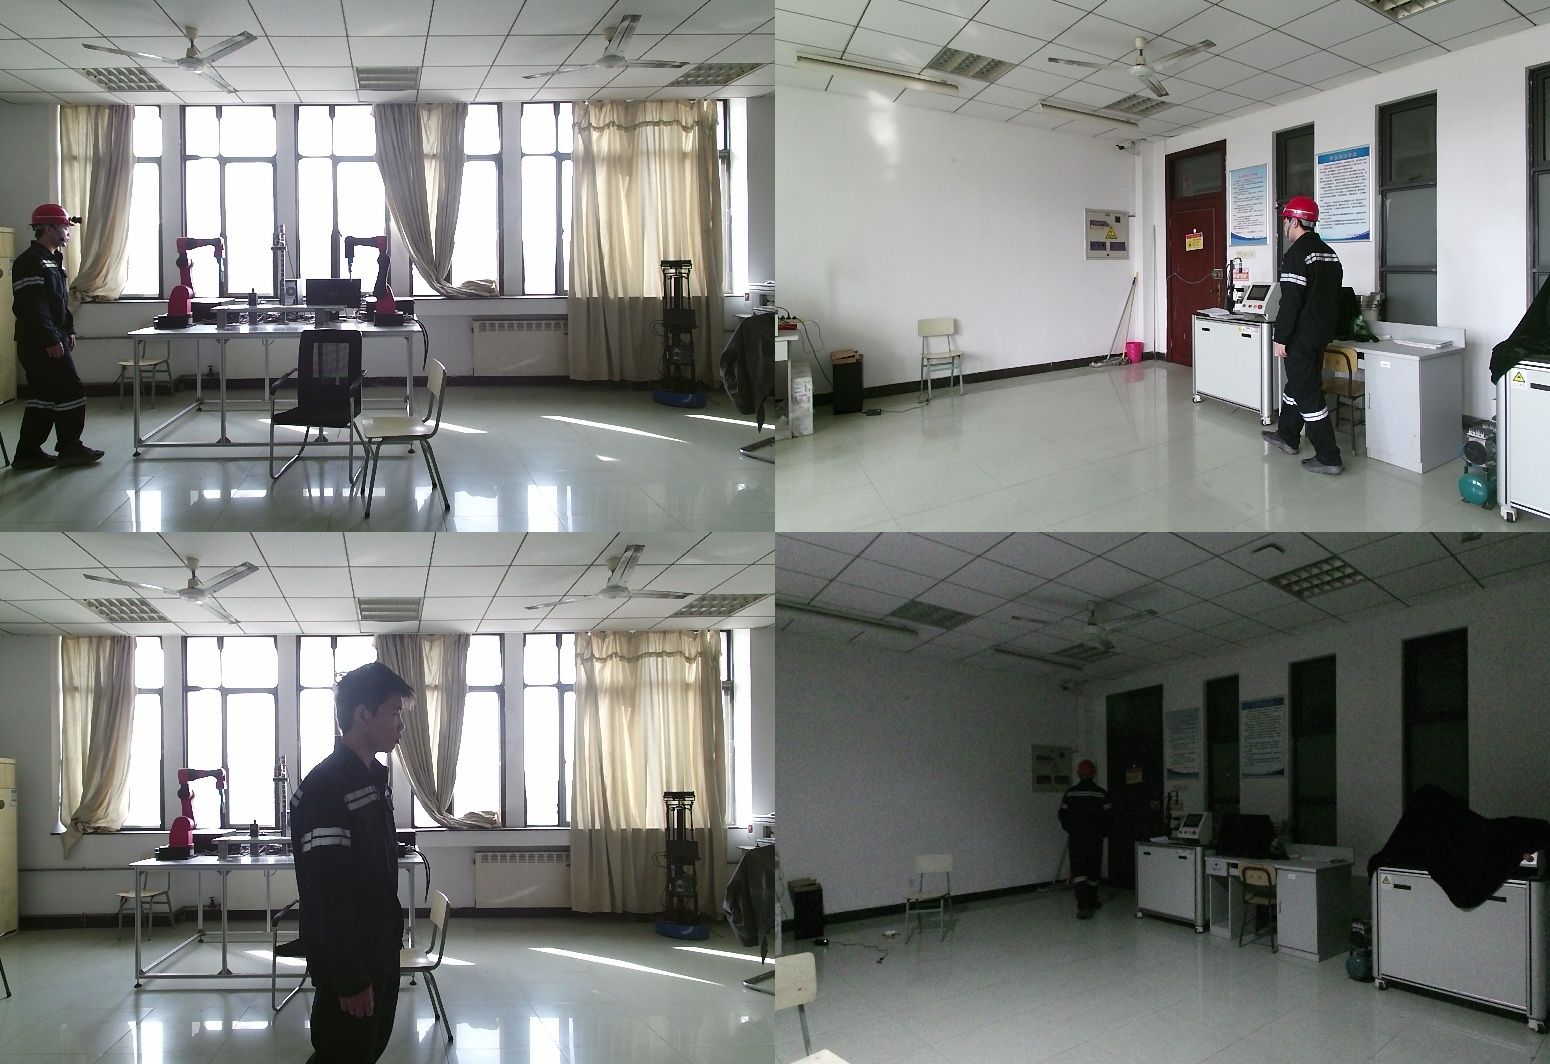person: (295, 663, 429, 1064), (7, 204, 114, 468), (1270, 194, 1351, 471), (1059, 762, 1120, 924)
